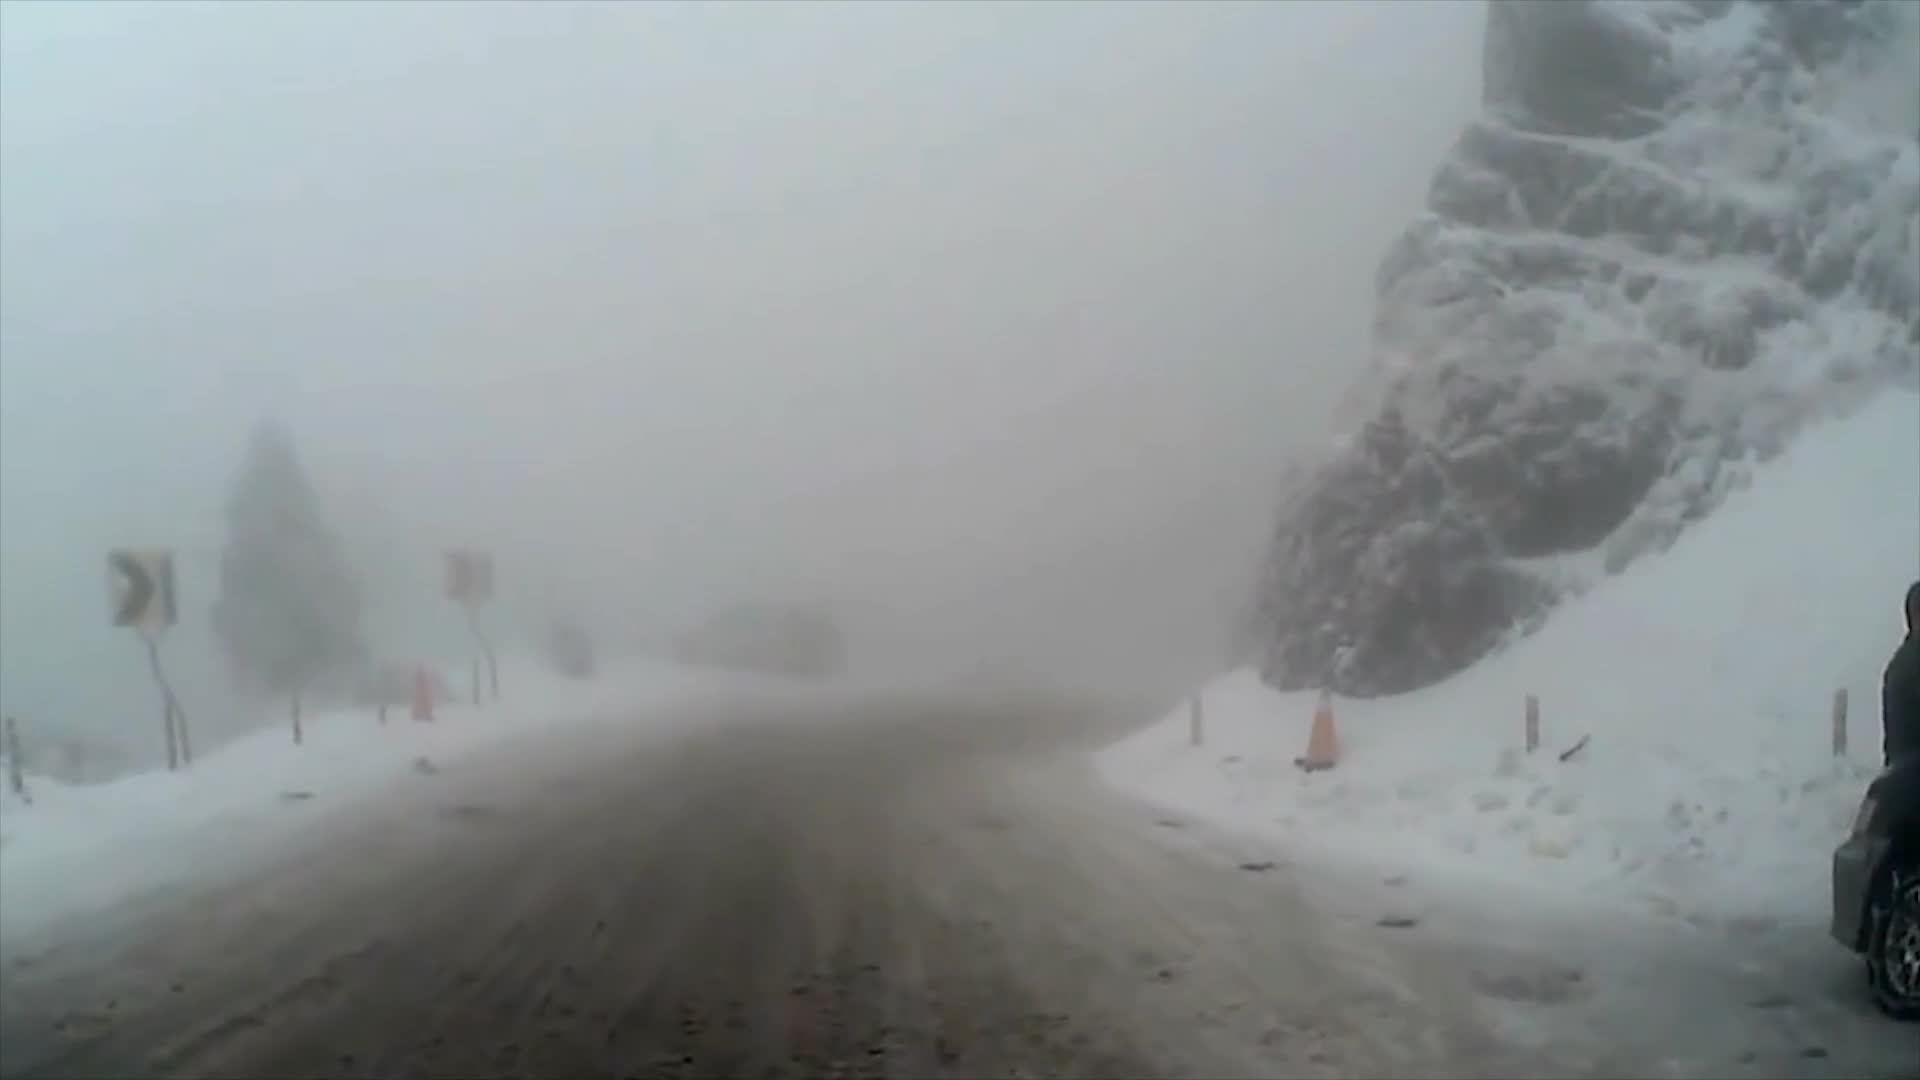pedestrian: (1879, 582, 1920, 911)
vehicle: (1826, 753, 1919, 1020)
